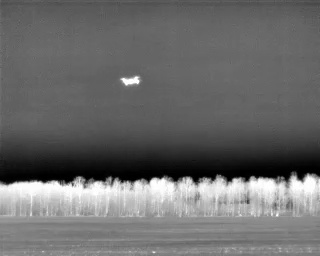DRONE: (116, 71, 145, 91)
